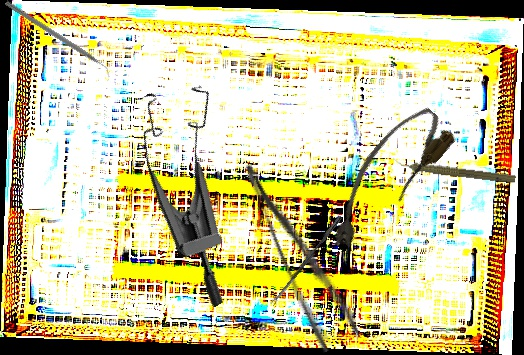Cannula: (310, 98, 460, 260)
Chopper: (0, 0, 115, 80)
Dressing Forceps: (240, 149, 363, 355)
Handpiece: (391, 155, 517, 186)
Speculum: (98, 66, 307, 310)
Surgical Spoon: (269, 214, 343, 307)
